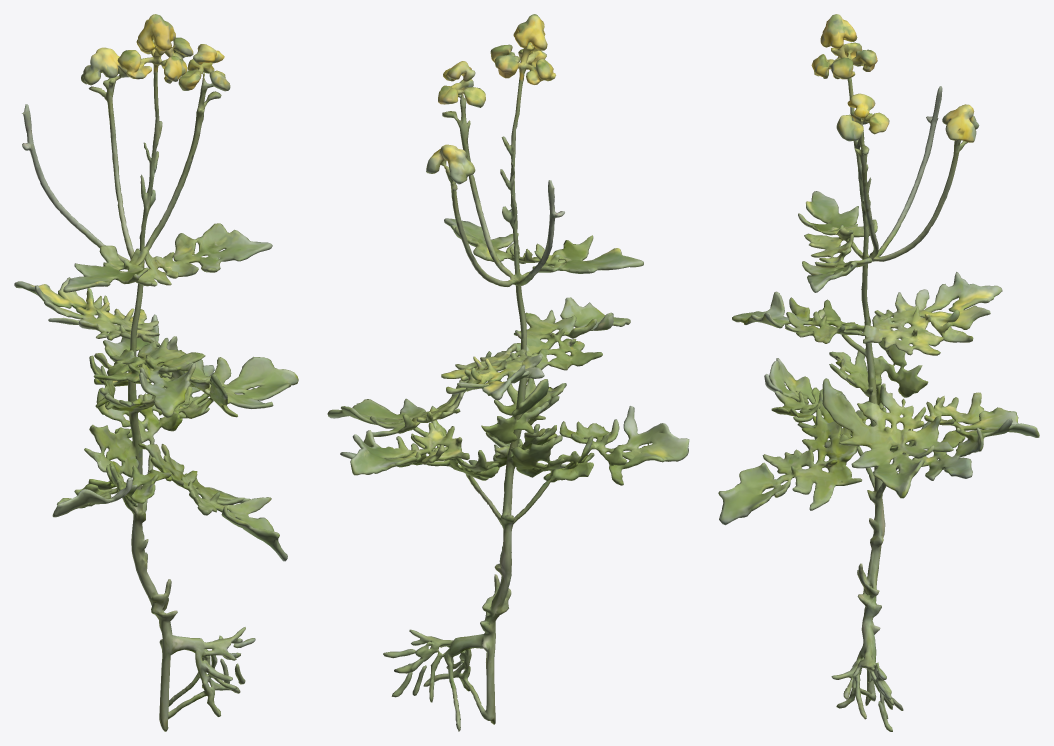
Rendered from mustard.glb.
The picture shows the model from 3 angles, left to right: view 1: azimuth 30°, elevation 25°; view 2: azimuth 150°, elevation 25°; view 3: azimuth 270°, elevation 25°; orthographic projection. The views are drawn at different scales.
Parts seen in each view (by area): view 1: Meshy_AI_Mustard_Plant_with_Ro_0122124404_texture; view 2: Meshy_AI_Mustard_Plant_with_Ro_0122124404_texture; view 3: Meshy_AI_Mustard_Plant_with_Ro_0122124404_texture.
Part boxes in pixels (x1,y1,x2,y2): Meshy_AI_Mustard_Plant_with_Ro_0122124404_texture: (14,14,298,731); Meshy_AI_Mustard_Plant_with_Ro_0122124404_texture: (327,14,689,731); Meshy_AI_Mustard_Plant_with_Ro_0122124404_texture: (718,14,1039,731).
Size of the model in its own units: 1.89 by 4.29 by 1.84.
Materials: 1 (1 with a texture image).
